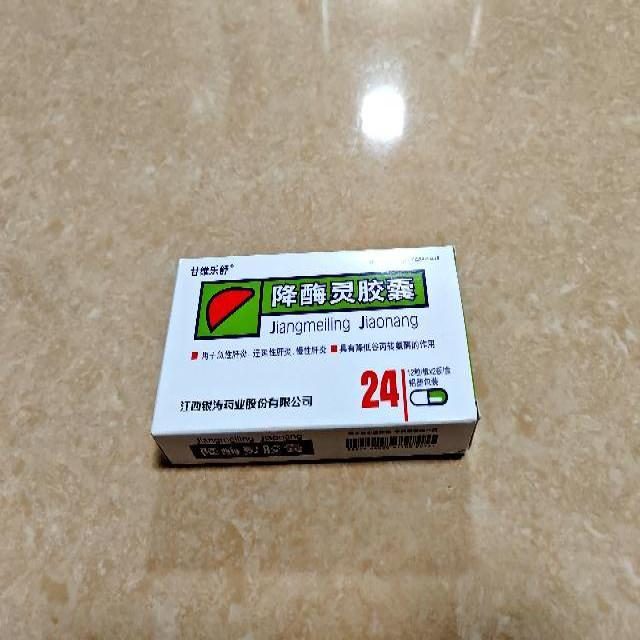box: (153, 246, 479, 466)
